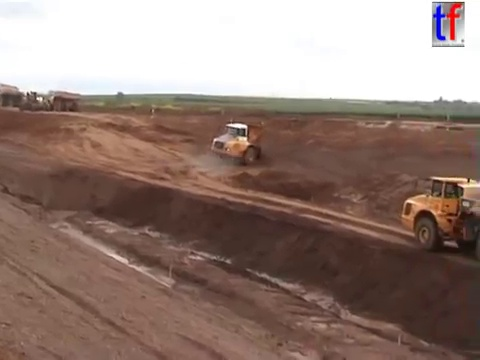motor grader: (18, 90, 54, 112)
truck: (398, 173, 480, 253), (208, 113, 270, 167), (44, 88, 82, 112), (1, 82, 26, 110)
